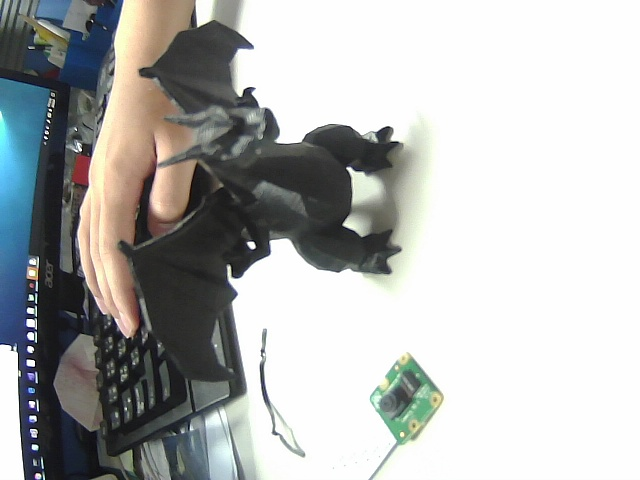charizard: (100, 5, 475, 410)
